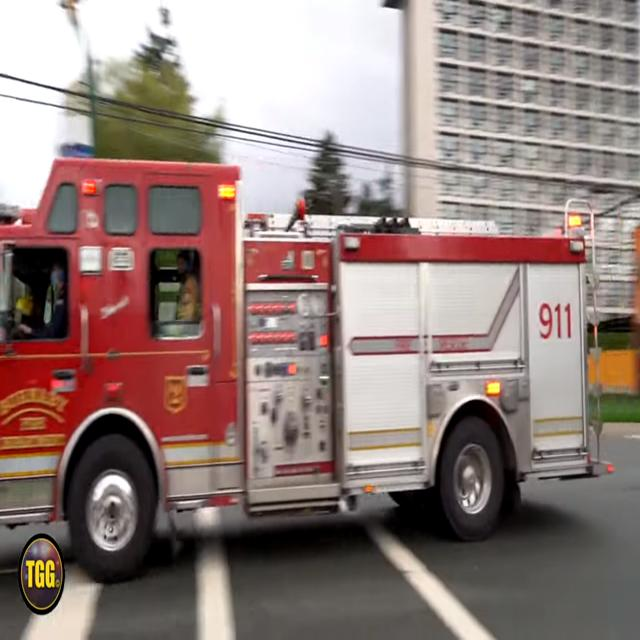emergency-vehicles: (1, 139, 626, 599)
